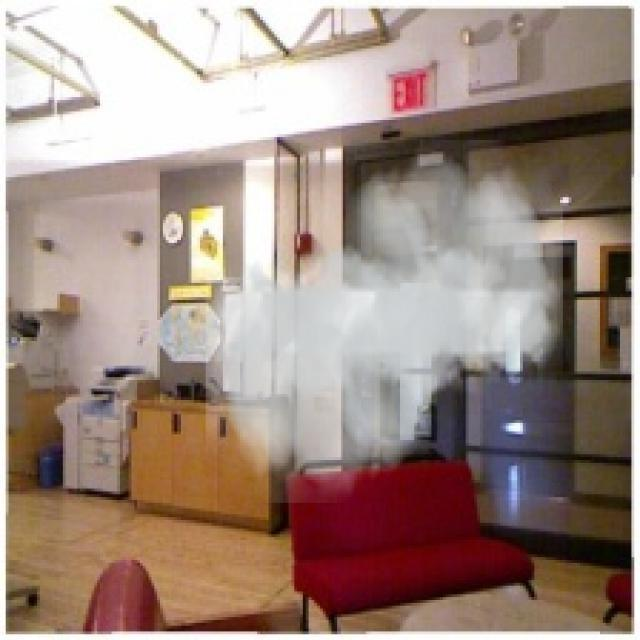Smoke: (206, 140, 563, 503)
